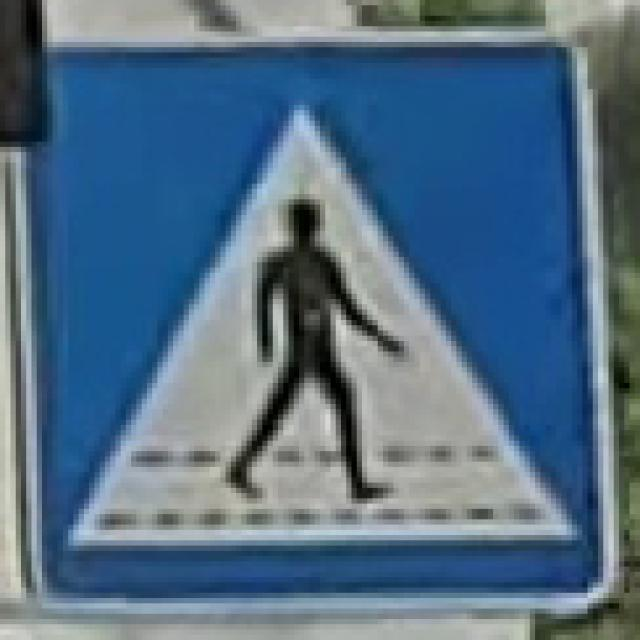zebracrossing_sign: (21, 31, 614, 608)
